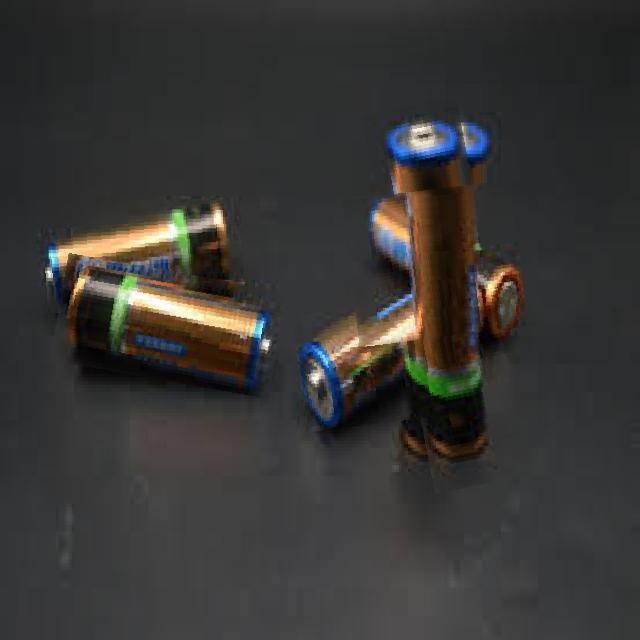Battery: (389, 115, 498, 453), (60, 266, 281, 395), (362, 193, 524, 327), (42, 202, 234, 299), (289, 284, 418, 420), (466, 123, 494, 235)
